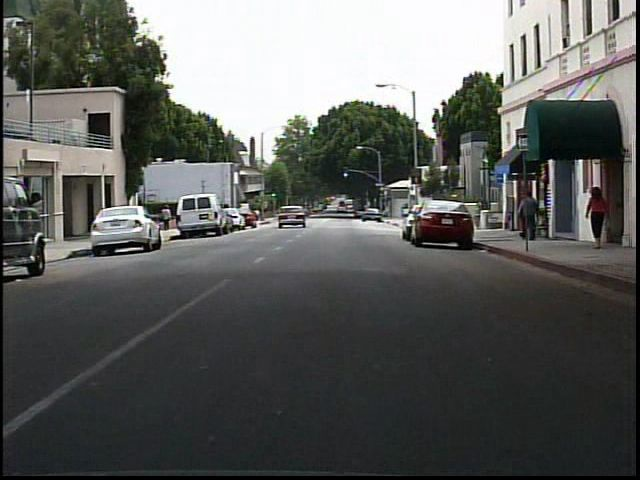person: (582, 187, 612, 250), (515, 190, 543, 243), (161, 202, 176, 234)
